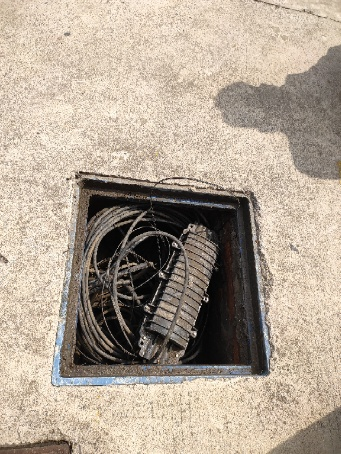lose: (51, 171, 274, 385)
